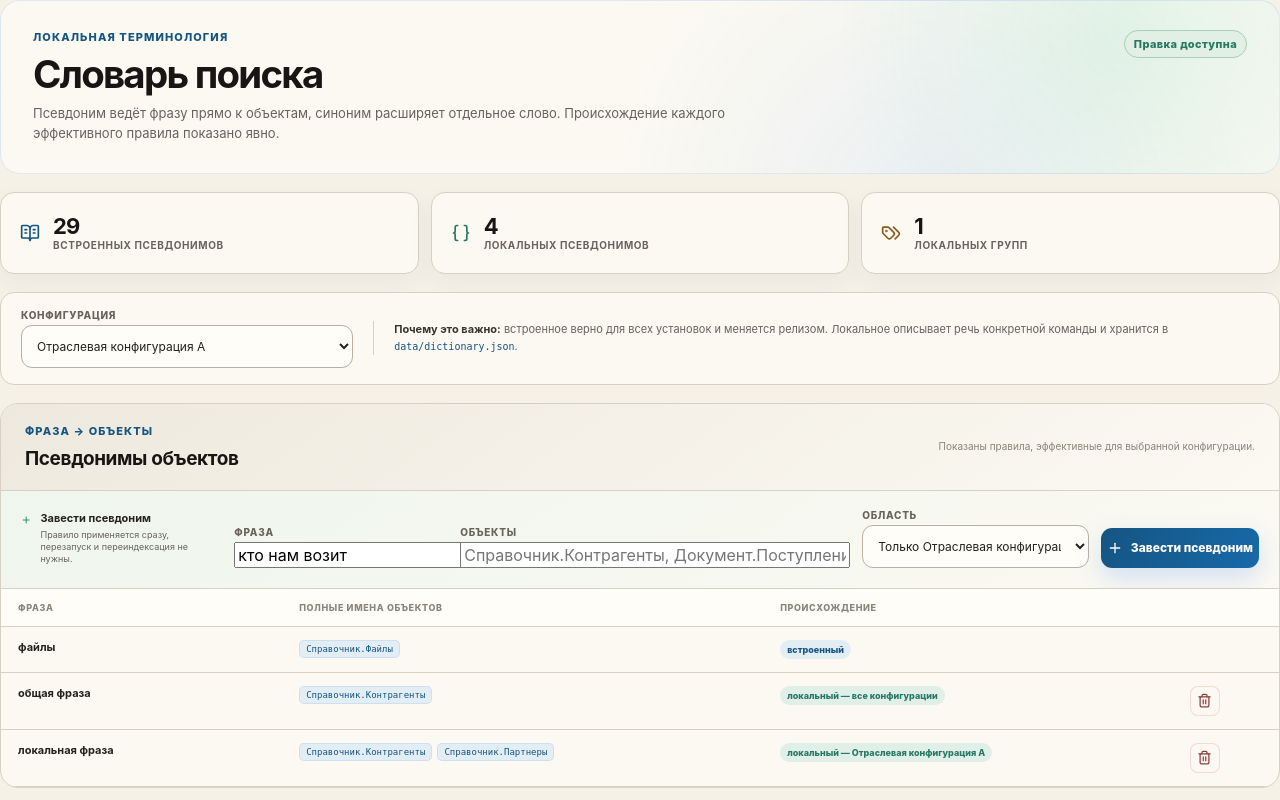
Test: администратор заводит псевдоним в выбранной области
Type "Справочник.Контрагенты, Справочник.Партнеры" into the field named "Полные имена объектов".
click(655, 554); type("Справочник.Контрагенты, Справочник.Партнеры")  # box [460, 542, 850, 568]
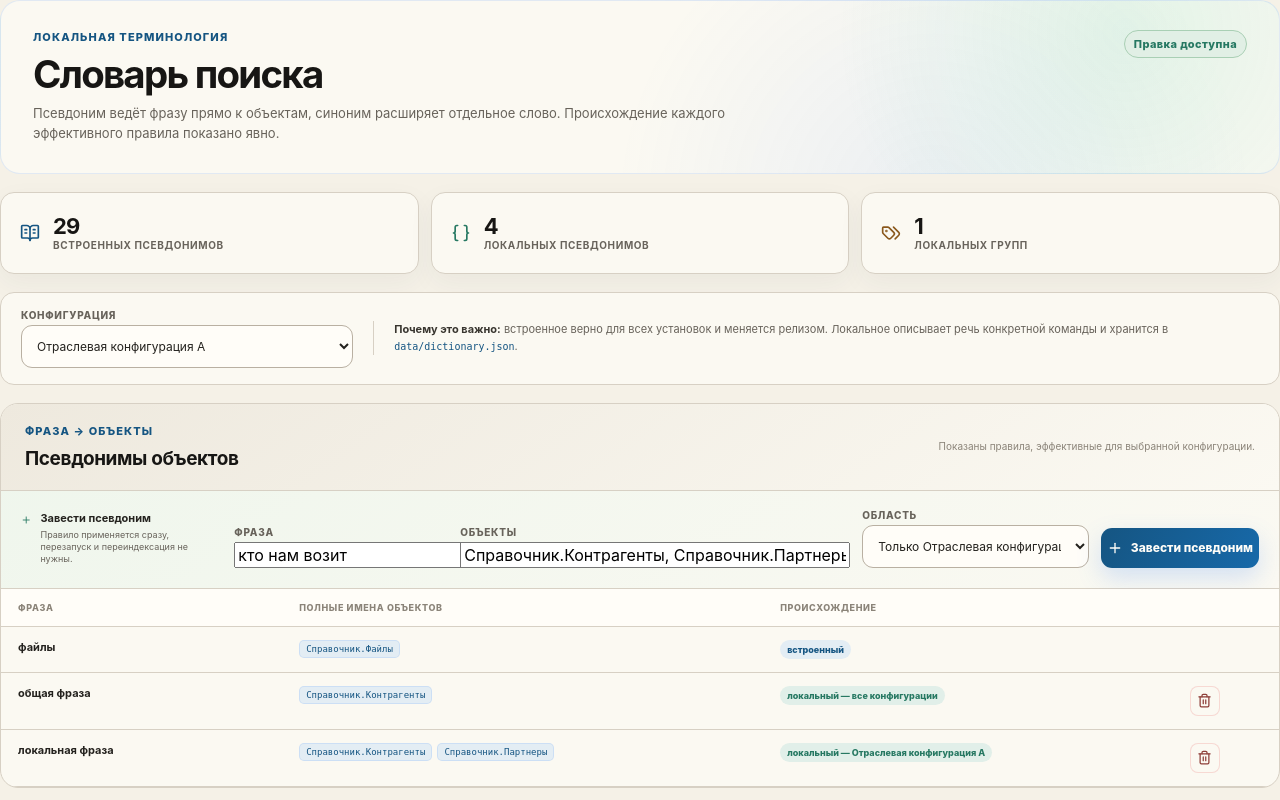
Click the button "Завести псевдоним".
click(1180, 548)  # box [1101, 528, 1259, 568]
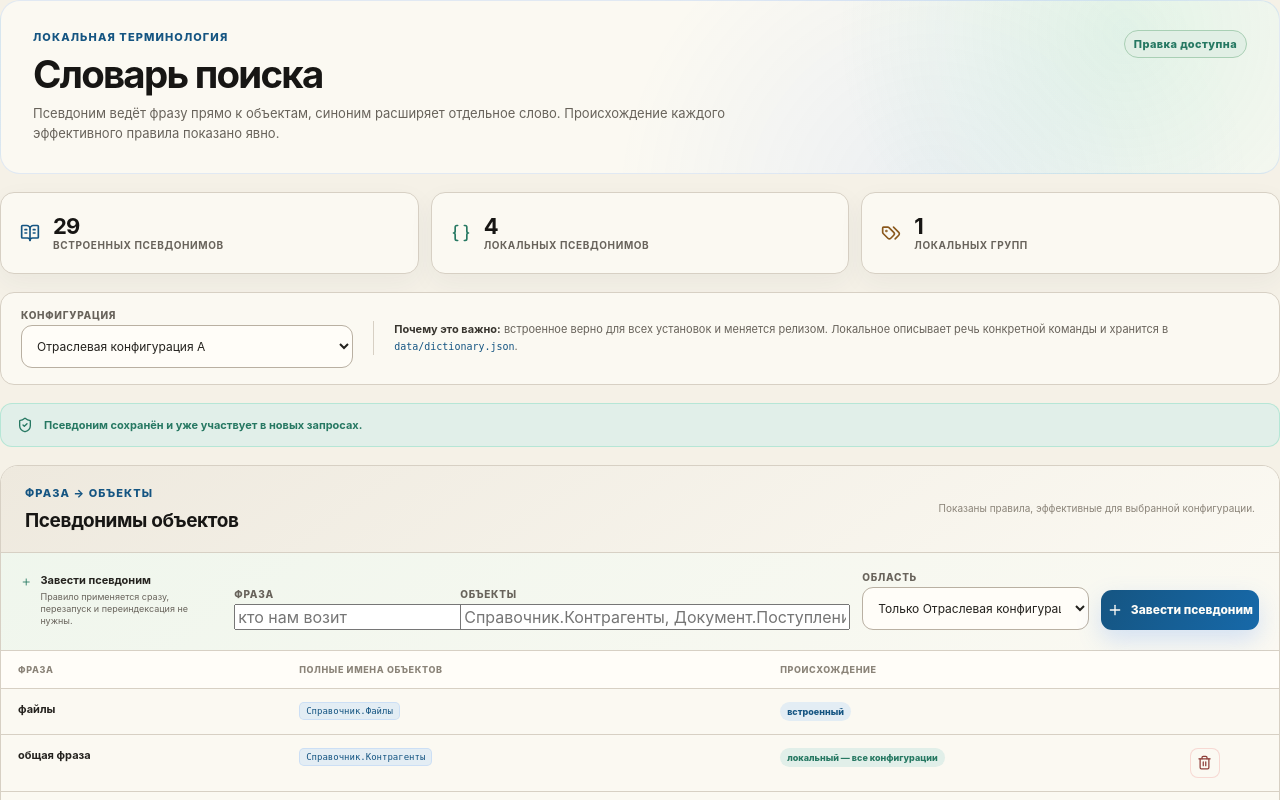
Expected: the field named "Фраза псевдонима" is empty, [234, 604, 490, 630]
Expected: the text "Псевдоним сохранён и уже участвует в новых запросах." is shown, [0, 402, 1279, 446]
